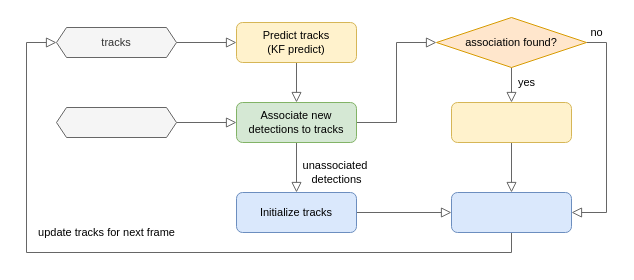
The diagram is 634 pixels wide and 280 high, and some of its shapes have lost their labels. The centre of each missing label's shape, as x and y in pixels:
"detections" belongs at point (116, 122).
"Track mangement" belongs at point (511, 212).
"Update tracks (KF update)" belongs at point (511, 122).
